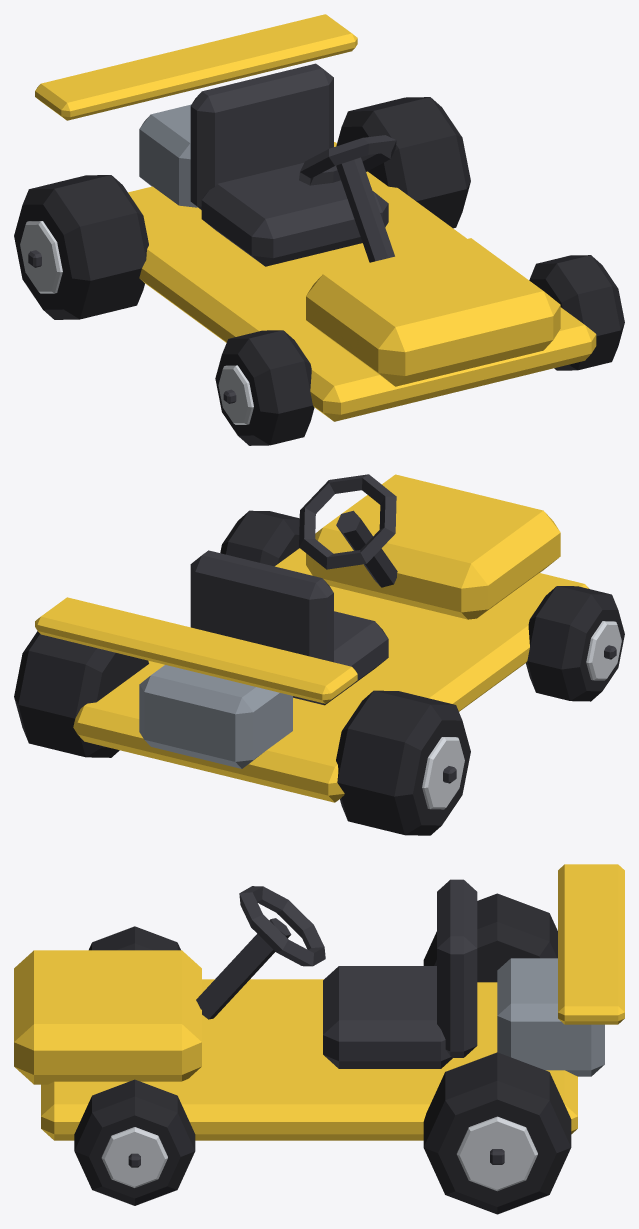
The model's file is YellowGoKart.fbx.
3 renders of one model, top to bottom at view 1: azimuth 30°, elevation 25°; view 2: azimuth 150°, elevation 25°; view 3: azimuth 270°, elevation 25°, orthographic. The views are drawn at different scales.
Visible parts, largest first — view 1: YellowGoKart, YellowGoKart_WheelBR, YellowGoKart_WheelBL, YellowGoKart_WheelFR, YellowGoKart_WheelFL; view 2: YellowGoKart, YellowGoKart_WheelBR, YellowGoKart_WheelBL, YellowGoKart_WheelFR, YellowGoKart_WheelFL; view 3: YellowGoKart, YellowGoKart_WheelBL, YellowGoKart_WheelFL, YellowGoKart_WheelBR, YellowGoKart_WheelFR.
Part boxes in pixels (x1,y1,x2,y2): YellowGoKart: [35, 14, 596, 421]; YellowGoKart_WheelBR: [14, 175, 148, 319]; YellowGoKart_WheelBL: [336, 97, 470, 228]; YellowGoKart_WheelFR: [215, 330, 314, 445]; YellowGoKart_WheelFL: [529, 255, 624, 370]; YellowGoKart: [35, 474, 589, 802]; YellowGoKart_WheelBR: [336, 690, 470, 835]; YellowGoKart_WheelBL: [14, 631, 148, 757]; YellowGoKart_WheelFR: [526, 586, 624, 701]; YellowGoKart_WheelFL: [220, 510, 299, 566]; YellowGoKart: [14, 864, 624, 1140]; YellowGoKart_WheelBL: [423, 1052, 571, 1214]; YellowGoKart_WheelFL: [74, 1079, 195, 1205]; YellowGoKart_WheelBR: [423, 893, 557, 982]; YellowGoKart_WheelFR: [89, 926, 180, 950].
Bounding box in the file's own units: 3.72 × 1.88 × 4.55.
1 material, 1 textured.
